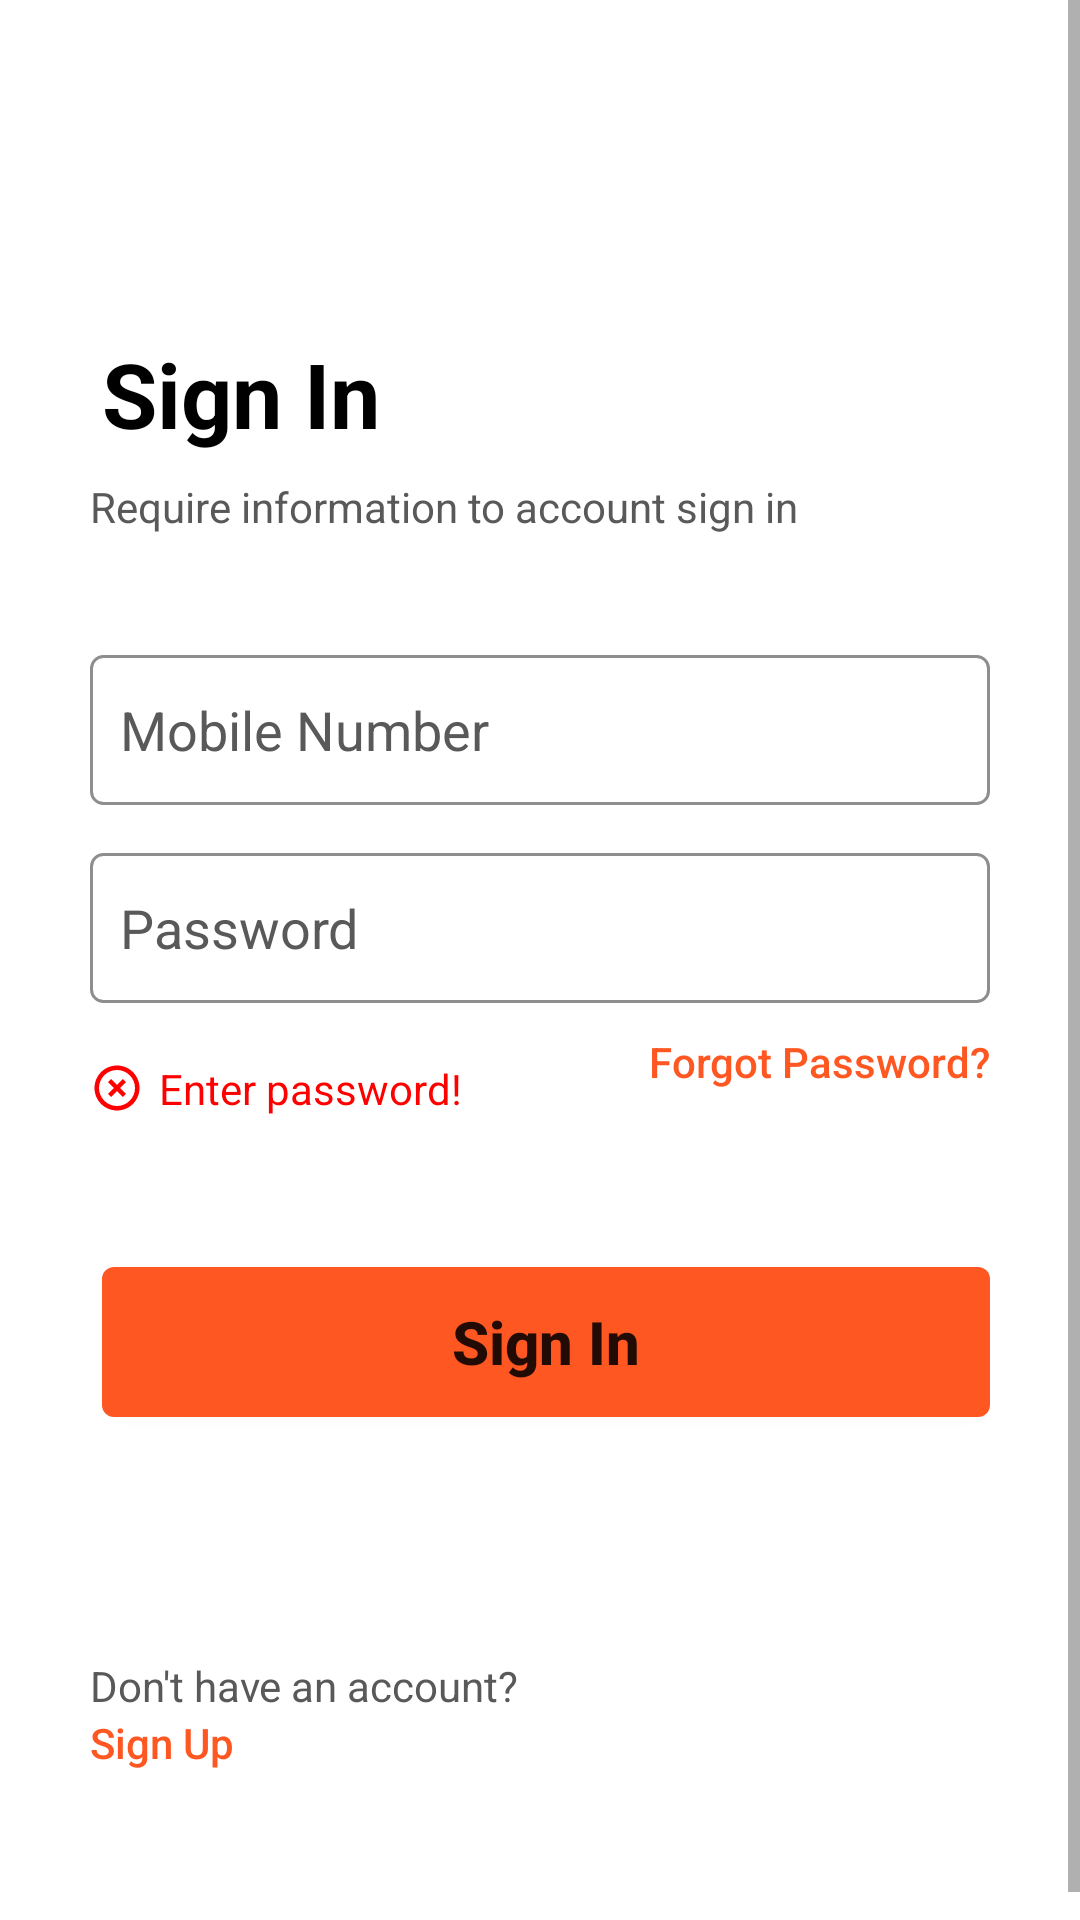

Icon bounding boxes for this 1080 × 1920 phone screenshot, format region(x1, y1, x2, y2):
invalid: region(94, 1065, 140, 1111)
